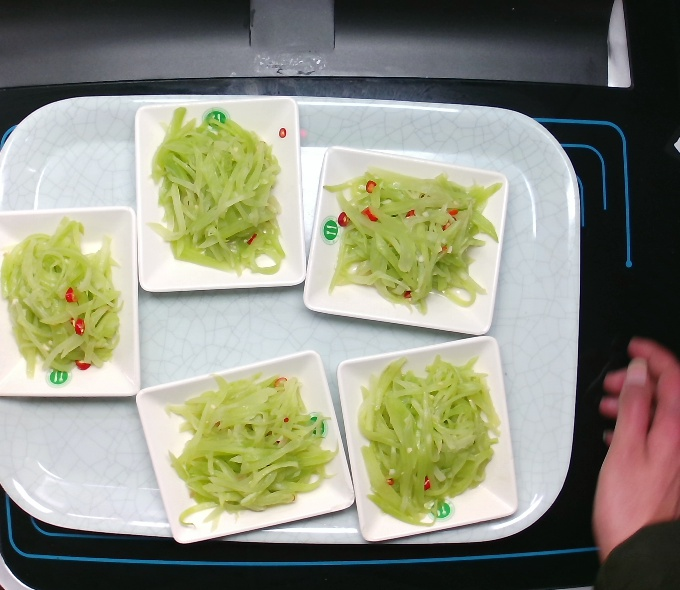wcq-YanWoSun: (164, 372, 339, 529), (355, 355, 508, 532), (146, 103, 299, 280), (317, 162, 490, 315), (1, 218, 130, 388)
